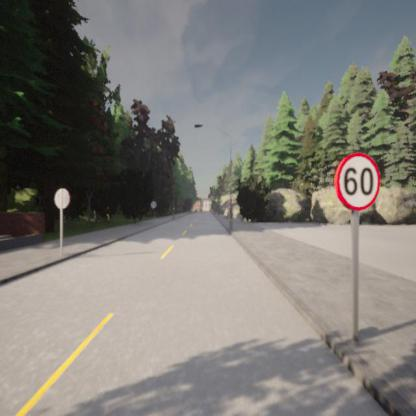traffic_sign_60: (335, 152, 381, 210)
